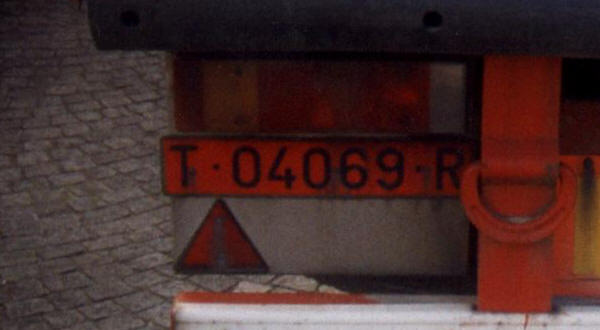license_plate: (160, 134, 471, 198)
